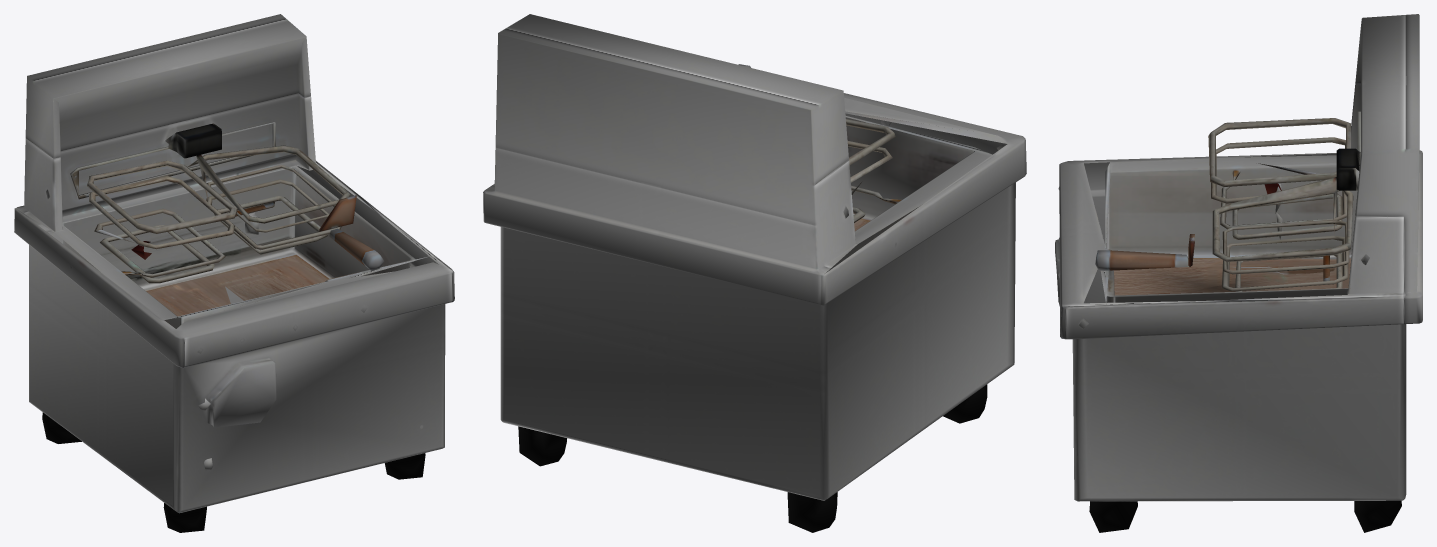
The model's file is freidora.glb.
The picture shows the model from 3 angles, left to right: view 1: azimuth 30°, elevation 25°; view 2: azimuth 150°, elevation 25°; view 3: azimuth 270°, elevation 25°; orthographic projection. The views are drawn at different scales.
Parts seen in each view (by area): view 1: tripo_node_17cb16af-7068-4e09-b210-4639fbfcb6b0; view 2: tripo_node_17cb16af-7068-4e09-b210-4639fbfcb6b0; view 3: tripo_node_17cb16af-7068-4e09-b210-4639fbfcb6b0.
Part boxes in pixels (<box>): tripo_node_17cb16af-7068-4e09-b210-4639fbfcb6b0: <box>14,14,454,532</box>; tripo_node_17cb16af-7068-4e09-b210-4639fbfcb6b0: <box>483,14,1026,532</box>; tripo_node_17cb16af-7068-4e09-b210-4639fbfcb6b0: <box>1055,14,1422,532</box>.
Bounding box in the file's own units: 0.818 × 0.9961 × 0.8591.
Materials: 1 (1 with a texture image).
